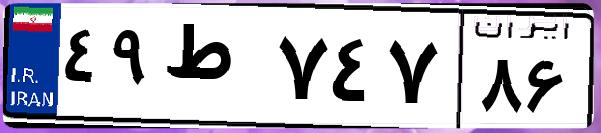4: (330, 28, 385, 110), (57, 26, 110, 100)
6: (525, 38, 570, 115)
7: (270, 28, 330, 110), (385, 28, 445, 110)
8: (475, 38, 525, 113)
9: (110, 28, 158, 98)
ط: (158, 20, 270, 120)
